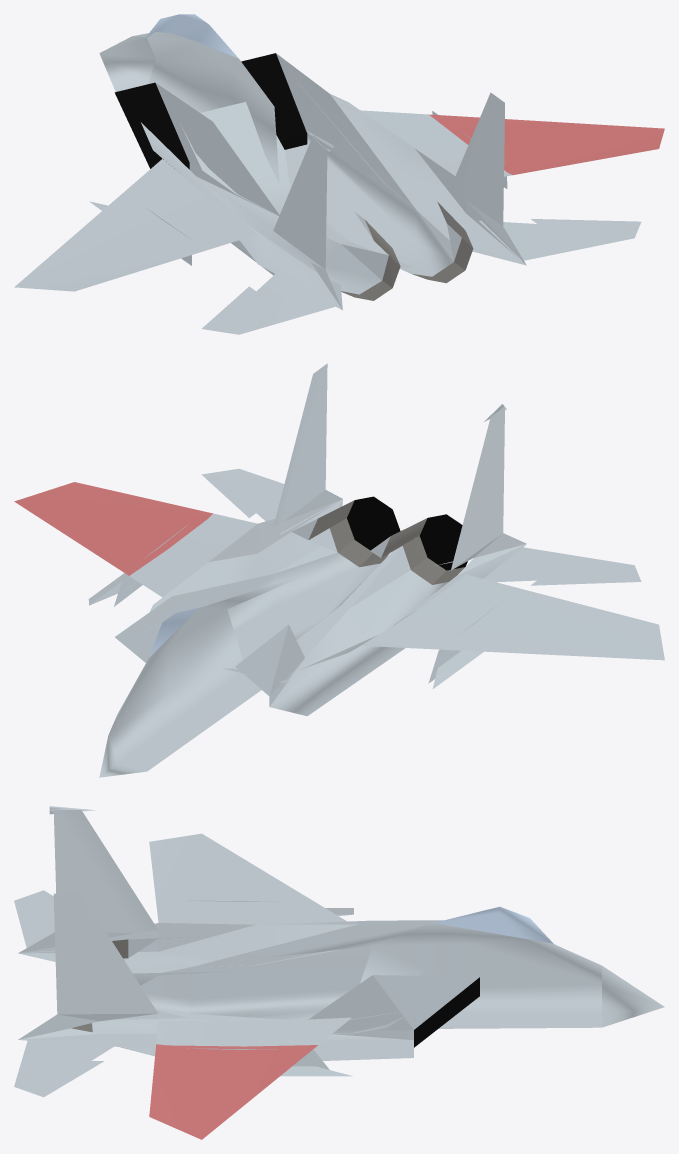
Rendered from ps2_save-icons_acecombatzero-100pc.glb.
The picture shows the model from 3 angles, top to bottom: view 1: azimuth 30°, elevation 25°; view 2: azimuth 150°, elevation 25°; view 3: azimuth 270°, elevation 25°; orthographic projection. The views are drawn at different scales.
Parts seen in each view (by area): view 1: icon1.ico; view 2: icon1.ico; view 3: icon1.ico.
Part boxes in pixels (x1=…): icon1.ico: x1=14, y1=14, x2=664, y2=334; icon1.ico: x1=14, y1=363, x2=664, y2=777; icon1.ico: x1=14, y1=806, x2=664, y2=1139.
Bounding box in the file's own units: 4.85 × 1.36 × 4.36.
1 material, 1 textured.
